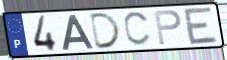4: (32, 14, 58, 53)
A: (61, 14, 96, 51)
C: (122, 10, 153, 48)
D: (89, 11, 124, 51)
E: (182, 5, 220, 47)
P: (153, 9, 184, 47)
